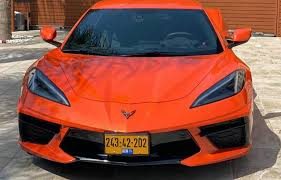licence: (102, 132, 151, 157)
